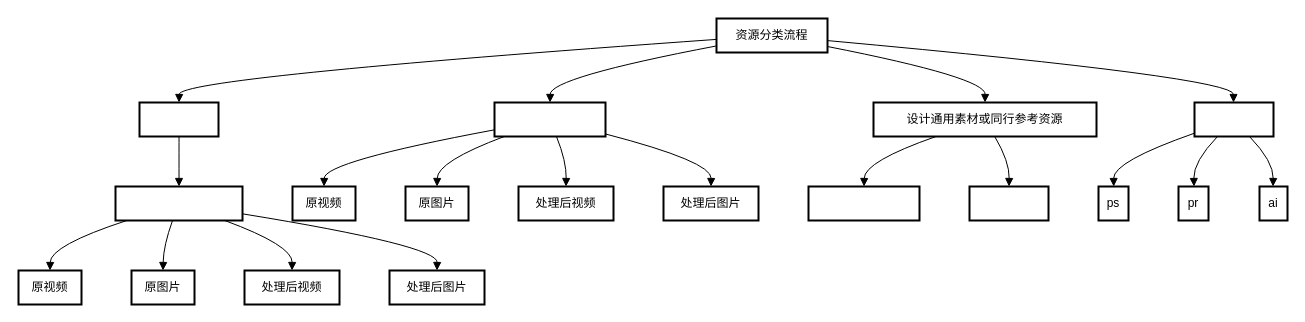
This 1305x322 diagram has some shape labels left out. The shapes that lost their labels are listed below. From the top down, each one's centre as x and y in pixels, then its label:
At (x=178, y=119): "商品资源".
At (x=549, y=119): "公司工厂资源,按场景分文件夹".
At (x=1233, y=119): "其他资源".
At (x=178, y=203): "按商品分文件夹".
At (x=863, y=203): "设计通用素材".
At (x=1008, y=203): "同行参考".
